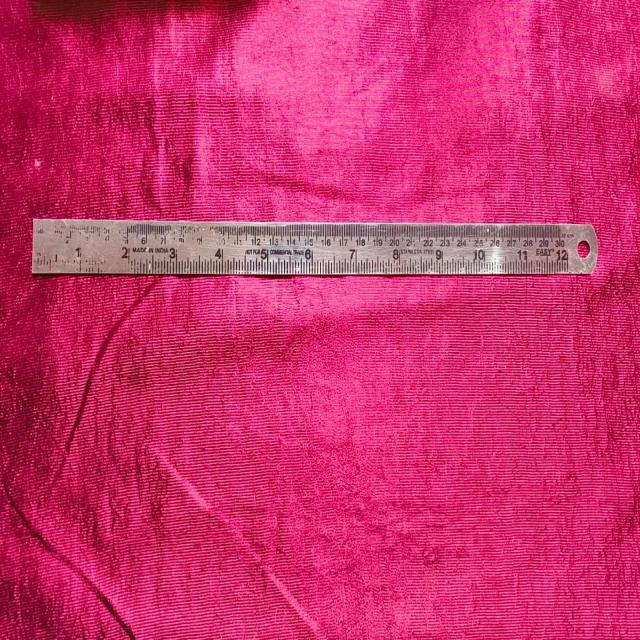Book: (33, 223, 597, 277)
